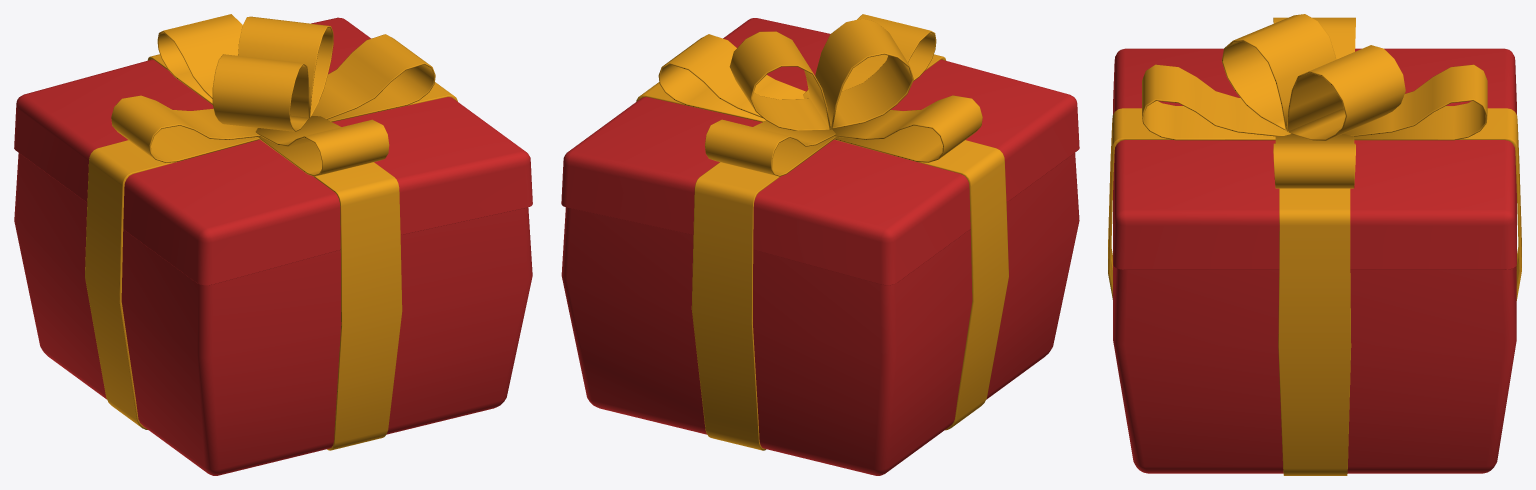
Rendered from gift.glb.
3 views of the same model, side by side, from view 1: azimuth 30°, elevation 25°; view 2: azimuth 150°, elevation 25°; view 3: azimuth 270°, elevation 25° (orthographic). The views are drawn at different scales.
Parts seen in each view (by area): view 1: Cube.000 (×2); view 2: Cube.000 (×2); view 3: Cube.000 (×2).
Boxes of the visible parts, x1=… form: Cube.000 (×2): x1=14, y1=14, x2=532, y2=475; Cube.000 (×2): x1=561, y1=14, x2=1079, y2=475; Cube.000 (×2): x1=1108, y1=14, x2=1521, y2=475.
Size of the model in its own units: 2.23 by 2.14 by 2.23.
